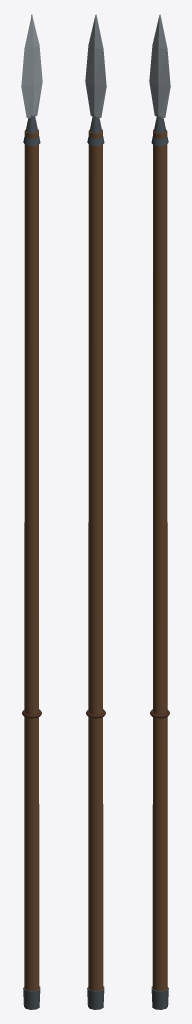
Rendered from spear.glb.
3 renders of one model, left to right at view 1: azimuth 30°, elevation 25°; view 2: azimuth 150°, elevation 25°; view 3: azimuth 330°, elevation 25°, orthographic.
Visible parts, largest first — view 1: spear-shaft, spear-head, spear-butt-cap, spear-socket; view 2: spear-shaft, spear-head, spear-butt-cap, spear-socket; view 3: spear-shaft, spear-head, spear-butt-cap, spear-socket.
Part boxes in pixels (x1=…): spear-shaft: x1=24, y1=129, x2=39, y2=990; spear-head: x1=21, y1=14, x2=42, y2=117; spear-butt-cap: x1=23, y1=986, x2=40, y2=1009; spear-socket: x1=23, y1=115, x2=40, y2=145; spear-shaft: x1=88, y1=129, x2=103, y2=990; spear-head: x1=85, y1=14, x2=106, y2=117; spear-butt-cap: x1=87, y1=986, x2=104, y2=1009; spear-socket: x1=87, y1=115, x2=104, y2=145; spear-shaft: x1=152, y1=129, x2=167, y2=990; spear-head: x1=149, y1=14, x2=170, y2=117; spear-butt-cap: x1=151, y1=986, x2=168, y2=1009; spear-socket: x1=151, y1=115, x2=168, y2=145.
Size of the model in its own units: 0.0373 by 1.66 by 0.0307.
